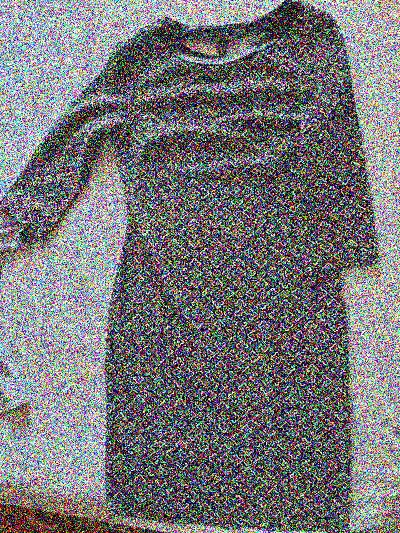Dress: (28, 11, 374, 532)
